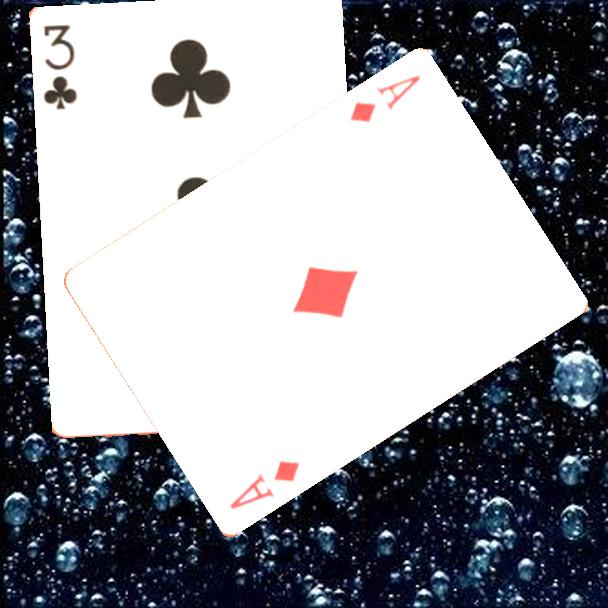c03: (39, 21, 80, 112)
d01: (226, 457, 303, 514), (346, 72, 423, 127)
